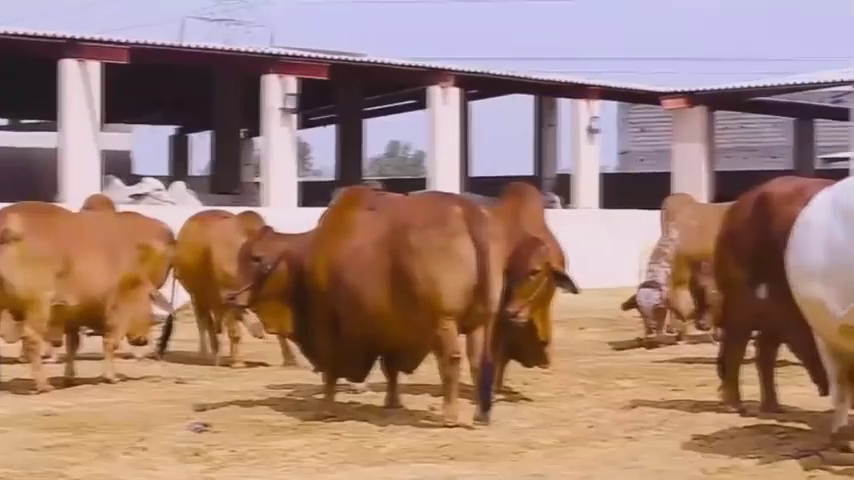bo: (220, 183, 496, 432), (697, 152, 854, 435), (3, 193, 172, 397), (479, 170, 584, 386), (168, 194, 292, 369), (620, 179, 719, 347)
